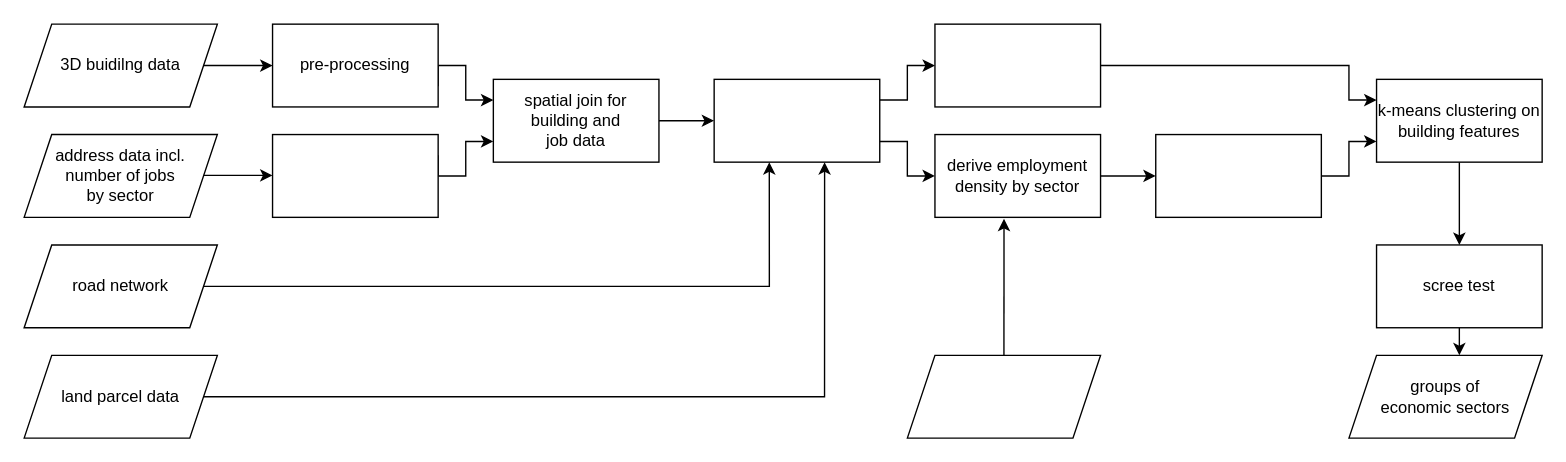
The diagram is 1566 pixels wide and 462 high, and some of its shapes have lost their labels. The shapes that lost their labels are listed below. From the top down, each one's centre as x and y in pixels, then its label:
At (1017,65): "correlation matrix for feature importance".
At (796,120): "derivation of building features".
At (354,175): "(semi-automated) geocoding".
At (1237,175): "Welch's t-test (oder ANOVA test)".
At (1003,396): "ontology of economic sectors".
